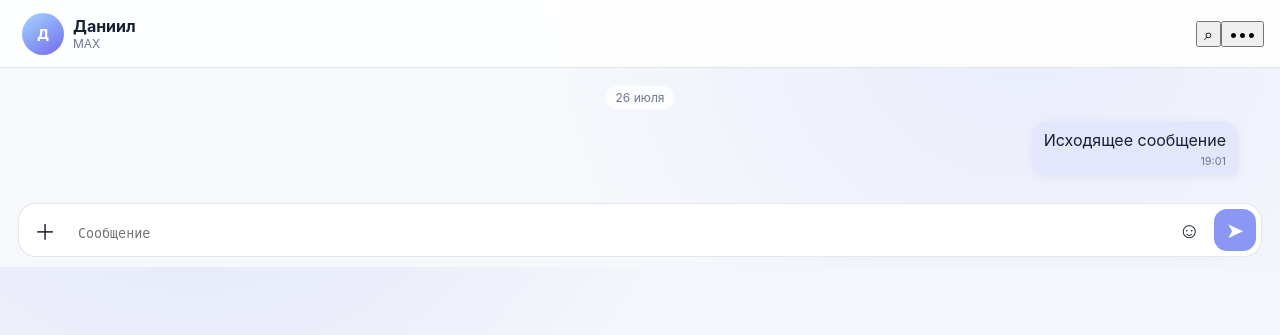
Scenario: reply and edit composer state › edits only an outgoing text message instead of sending a new one
Later steps or results of the test are not shown.
Right-click the text "Исходящее сообщение".
right_click(1135, 148)  # box [1032, 121, 1238, 175]
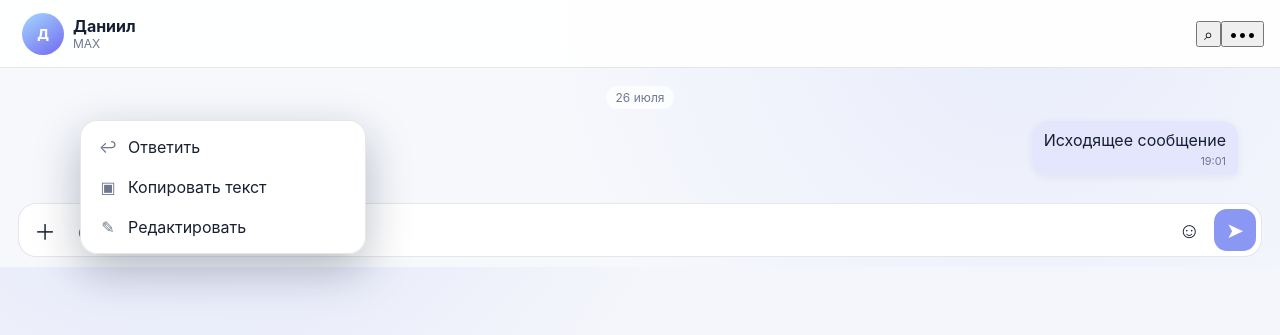
Click the menu item "✎ Редактировать".
click(223, 227)  # box [87, 207, 359, 247]
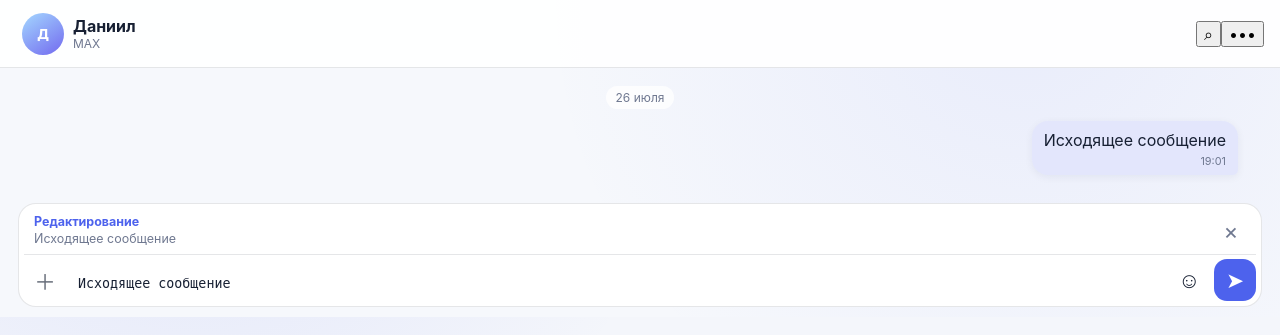
expect the text "Редактирование" is shown: met, box [34, 214, 139, 229]
expect the text box named "сообщение" holds "Исходящее сообщение": met, box [70, 266, 1164, 301]
